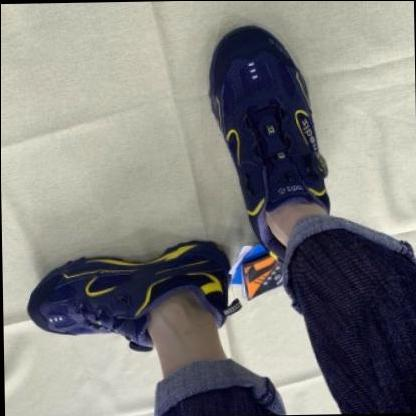safety-shoe: (201, 20, 349, 235), (22, 232, 245, 350)
